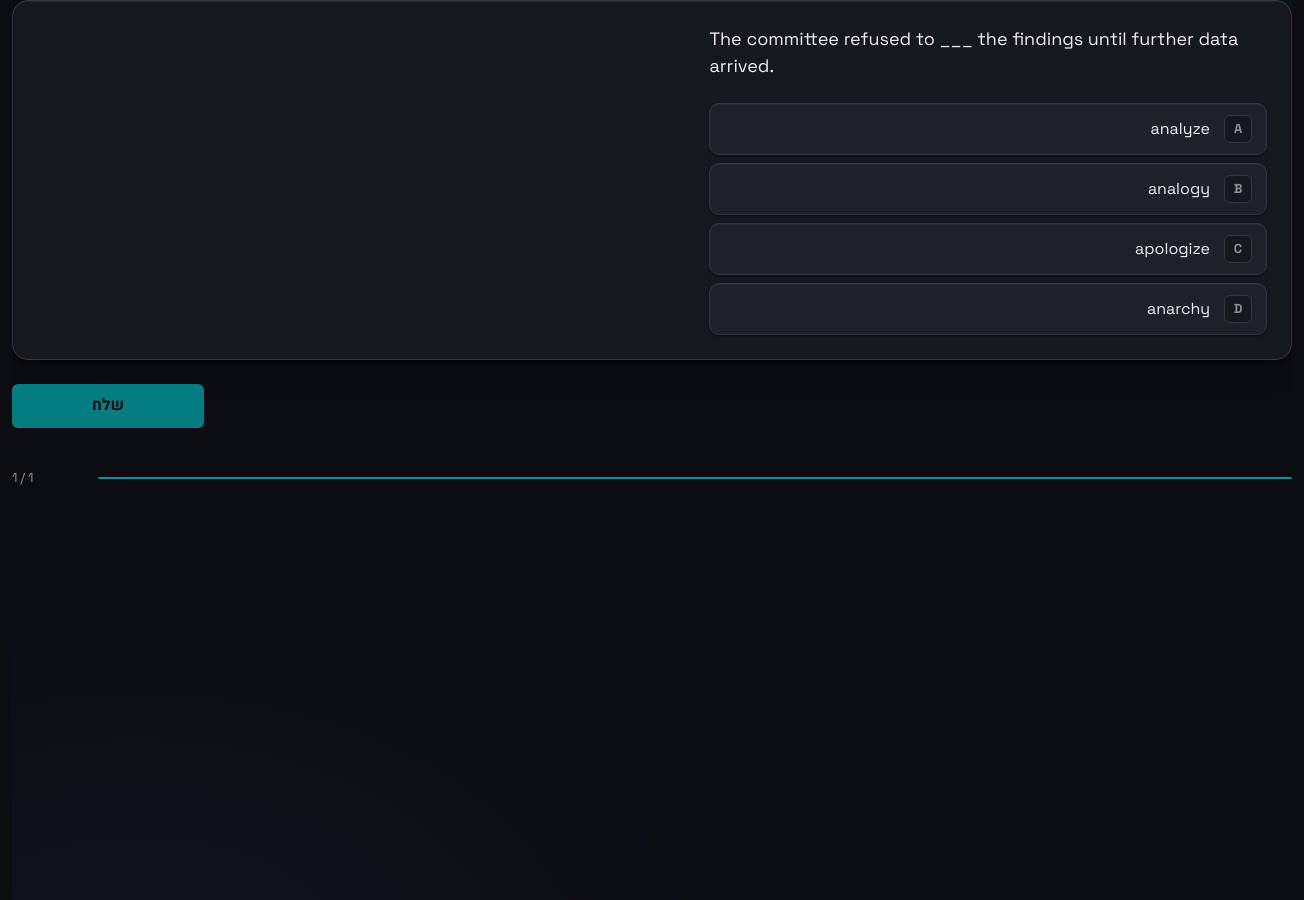
Test: SessionRunner › shows a visible, non-silent failure state when persisting an answer throws
Expected: the text "The committee refused to ___ the findings until further data arrived." is shown, [710,25,1267,79]
Click the button "analyze" at (1180, 129), box [710,103,1267,155]
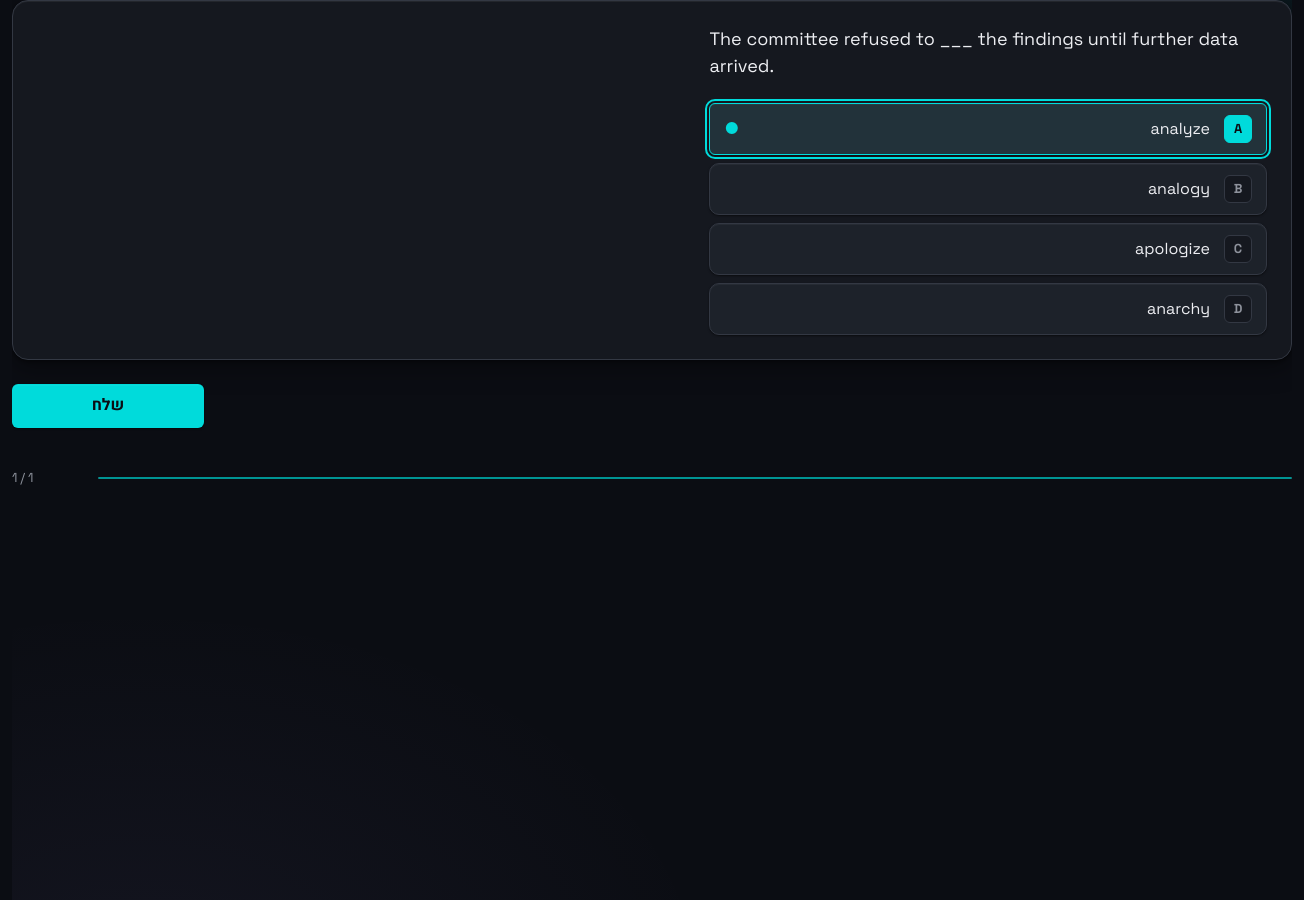
Click the button "שלח" at (108, 406), box [12,384,204,428]
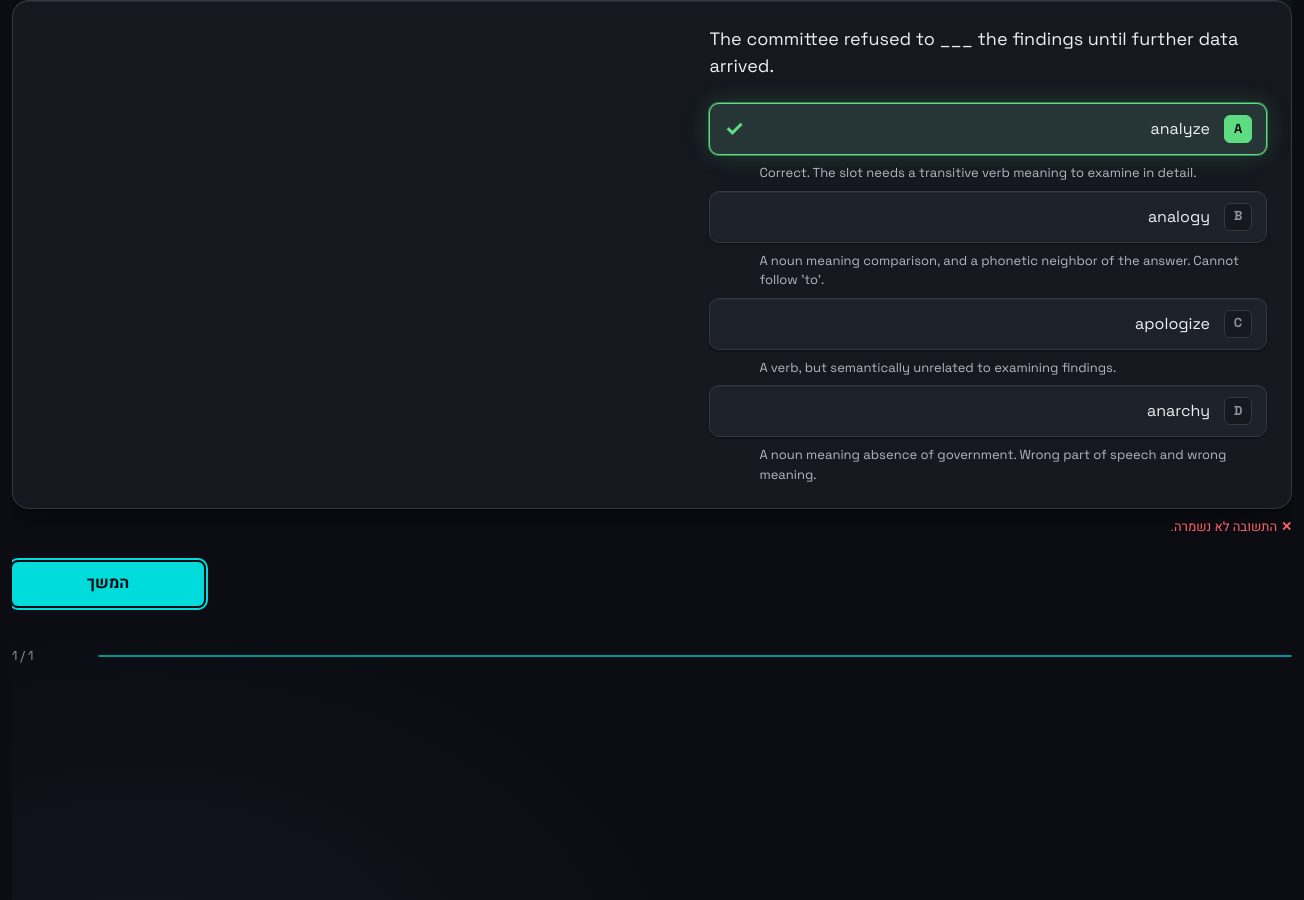
Expected: the text "Correct. The slot needs a transitive verb meaning to examine in detail." is shown, [760,164,1196,181]
Expected: the message shows "לא נשמרה", [1170,517,1277,536]
